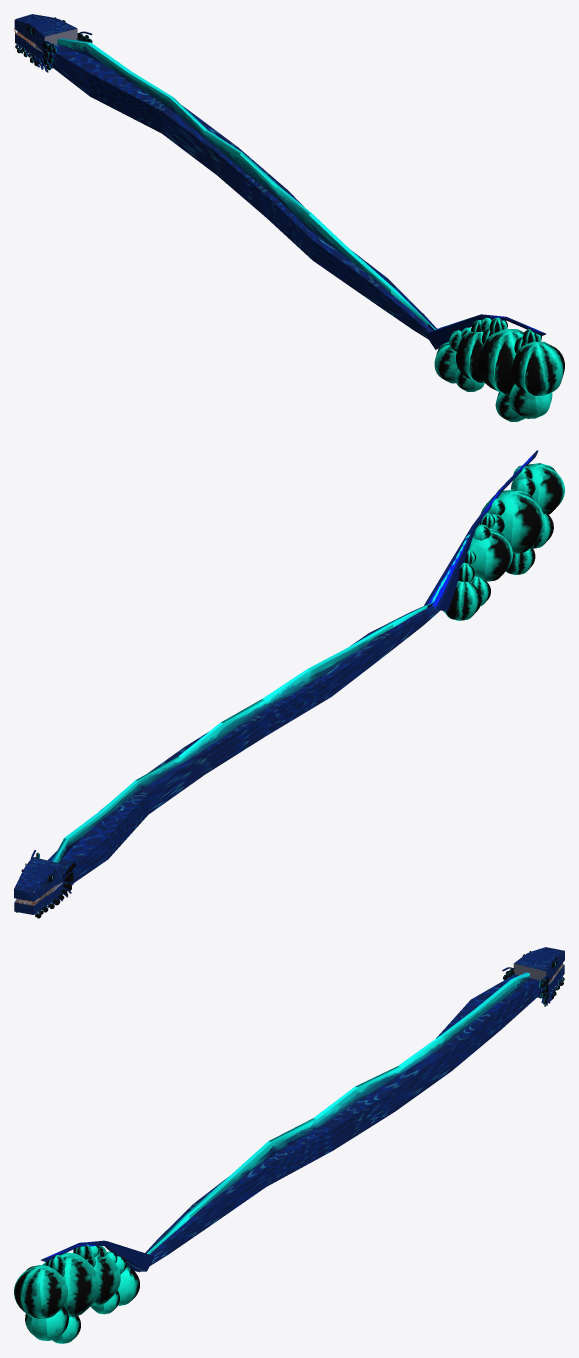
Rendered from UNDERWATER MONSER.fbx.
3 views of the same model, one above another, from view 1: azimuth 30°, elevation 25°; view 2: azimuth 150°, elevation 25°; view 3: azimuth 330°, elevation 25° (orthographic).
Parts seen in each view (by area): view 1: Cube, Sphere.057, Cube.001, Cube.002, Cube.005; view 2: Cube, Sphere.057, Cube.001, Cube.005, Cube.002, Cube.003; view 3: Cube, Sphere.057, Cube.001, Cube.002, Cube.005.
Part boxes in pixels (box(x1,y1,x2,y2)): Cube: box(35, 44, 436, 339); Sphere.057: box(434, 317, 564, 421); Cube.001: box(57, 38, 435, 330); Cube.002: box(14, 14, 77, 50); Cube.005: box(425, 314, 546, 349); Cube: box(47, 606, 439, 890); Sphere.057: box(443, 463, 564, 620); Cube.001: box(51, 602, 433, 863); Cube.005: box(424, 450, 538, 611); Cube.002: box(14, 857, 65, 901); Cube.003: box(14, 881, 64, 914); Cube: box(136, 974, 539, 1272); Sphere.057: box(14, 1242, 139, 1343); Cube.001: box(147, 972, 529, 1254); Cube.002: box(513, 947, 564, 981); Cube.005: box(40, 1240, 154, 1271).
Size of the model in its own units: 488 by 814 by 7272.
